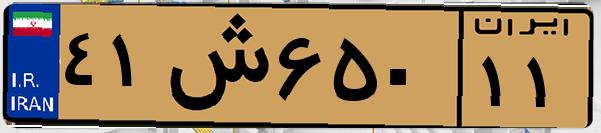0: (385, 28, 445, 110)
1: (475, 38, 525, 113), (525, 38, 570, 115), (110, 28, 158, 98)
4: (57, 26, 110, 100)
5: (330, 28, 385, 110)
6: (270, 28, 330, 110)
ش: (158, 12, 270, 120)
